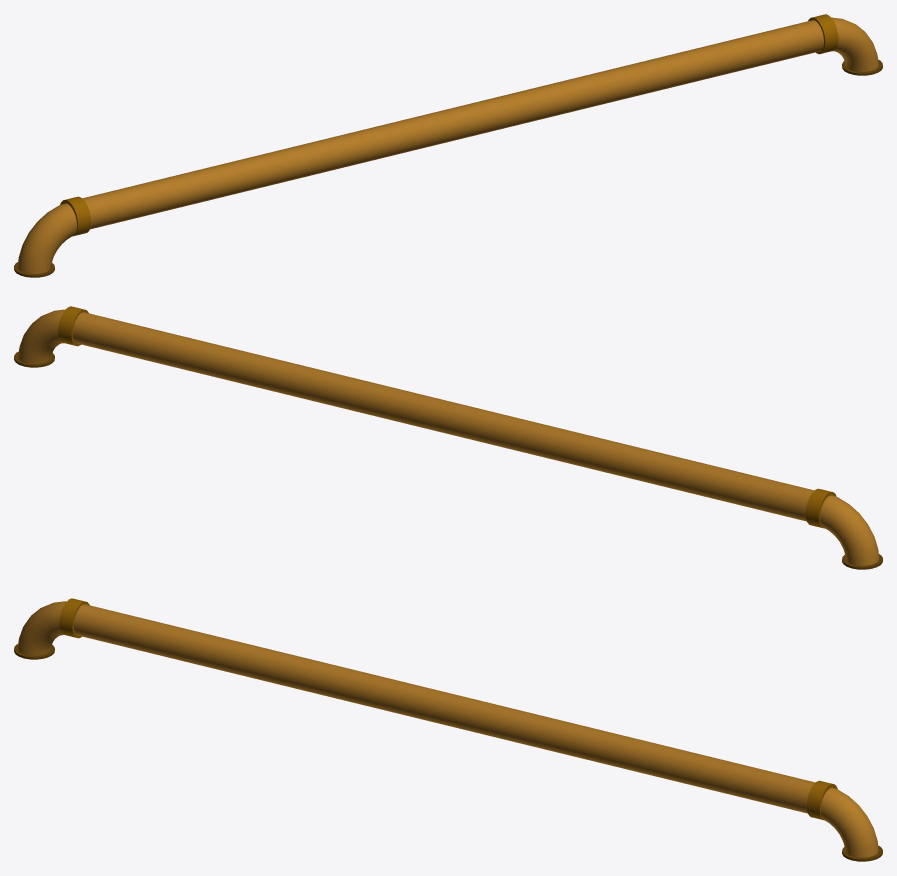
Rendered from Pipes3.fbx.
3 renders of one model, top to bottom at view 1: azimuth 30°, elevation 25°; view 2: azimuth 150°, elevation 25°; view 3: azimuth 330°, elevation 25°, orthographic.
Visible parts, largest first — view 1: pCylinder8; view 2: pCylinder8; view 3: pCylinder8.
Boxes of the visible parts, <box> form: pCylinder8: <box>14,14,882,277</box>; pCylinder8: <box>14,306,882,569</box>; pCylinder8: <box>14,598,882,861</box>.
Size of the model in its own units: 1458 by 98.15 by 60.2.
